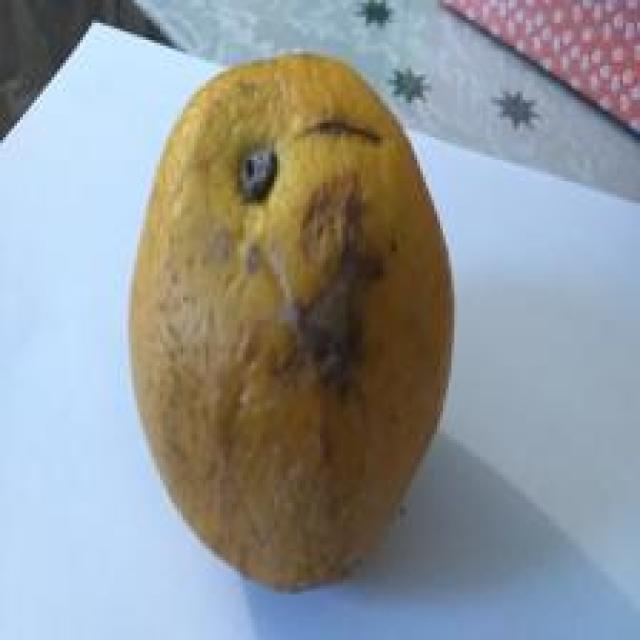overripe: (127, 48, 460, 598)
